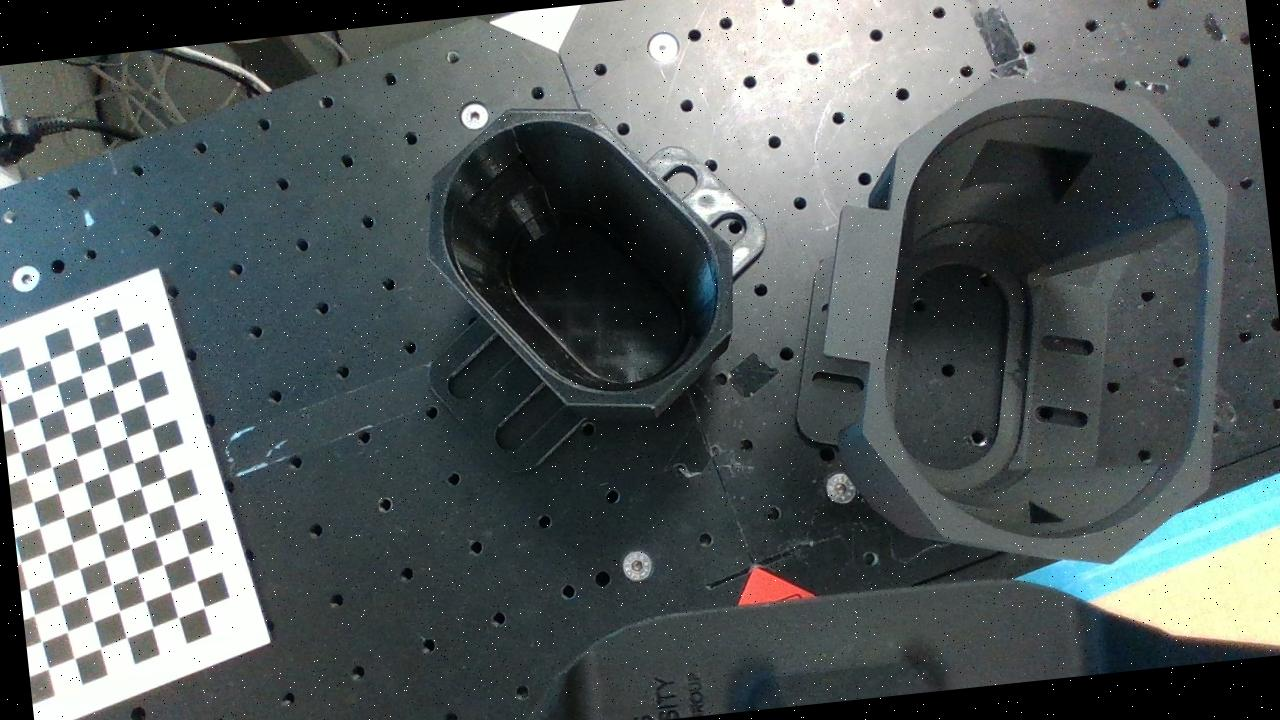big_interface: (827, 53, 1268, 588)
small_interface: (410, 85, 748, 430)
